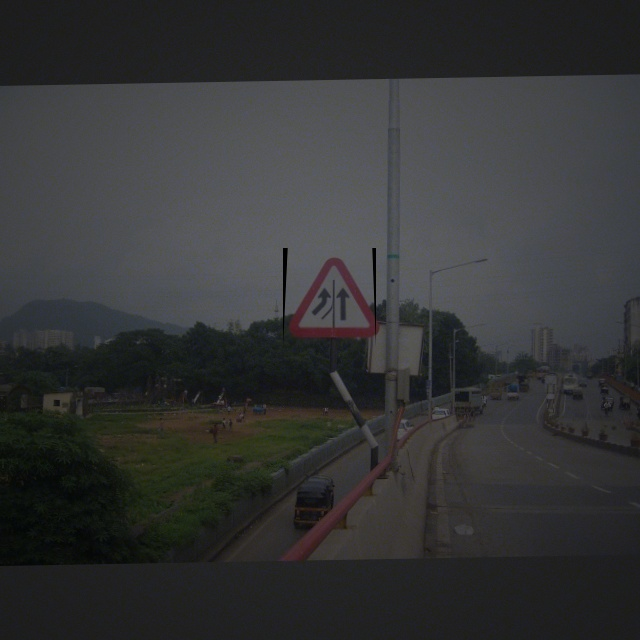Merge_Traffic_Ahead: (283, 248, 376, 347)
